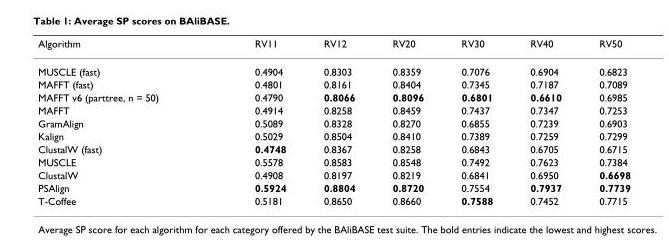table: (37, 37, 629, 206)
table column: (37, 37, 206, 206), (206, 37, 304, 206), (304, 37, 373, 206), (441, 37, 510, 206), (510, 37, 579, 206), (373, 37, 441, 206), (579, 37, 629, 206)
table column header: (37, 37, 629, 57)
table row: (37, 37, 629, 57), (37, 57, 629, 77), (37, 77, 629, 90), (37, 90, 629, 103), (37, 103, 629, 116), (37, 116, 629, 129), (37, 129, 629, 142), (37, 142, 629, 155), (37, 155, 629, 168), (37, 180, 629, 193), (37, 193, 629, 206), (37, 168, 629, 180)
